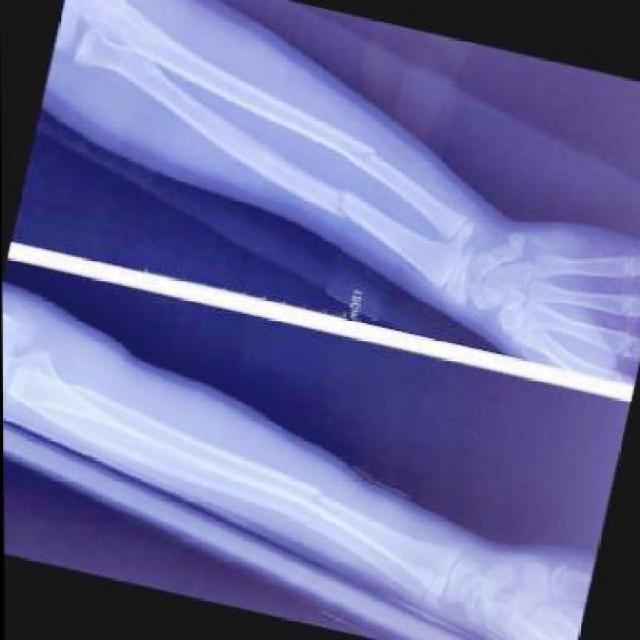Fracture: (346, 148, 383, 184), (328, 191, 362, 230), (292, 509, 322, 540), (303, 492, 330, 525)
